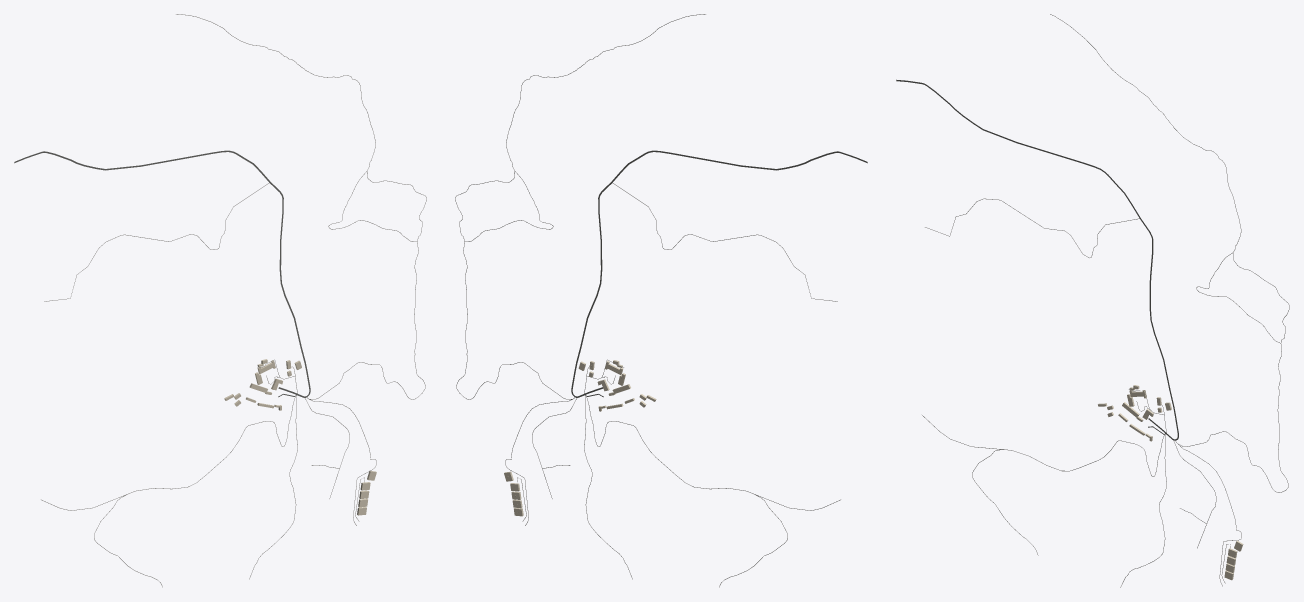
File: historic-palestine-08_23_3497_3172.glb
3 renders of one model, left to right at view 1: azimuth 30°, elevation 25°; view 2: azimuth 150°, elevation 25°; view 3: azimuth 330°, elevation 25°, orthographic. The views are drawn at different scales.
Parts seen in each view (by area): view 1: Road .002, Road .003; view 2: Road .002, Road .003; view 3: Road .002, Road .003.
Boxes of the visible parts, x1,y1,x2,y2 form: Road .002: (14, 150, 310, 396); Road .003: (176, 14, 426, 399); Road .002: (571, 150, 867, 396); Road .003: (455, 14, 705, 399); Road .002: (896, 79, 1178, 440); Road .003: (1050, 14, 1289, 492).
Bounding box in the file's own units: 1478 × 1998 × 8.7.
